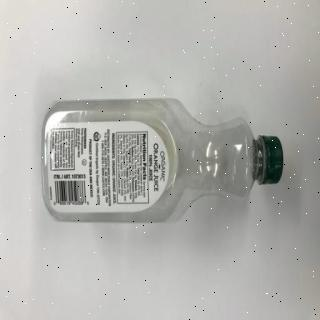Plastic-bottle: (39, 95, 287, 230)
